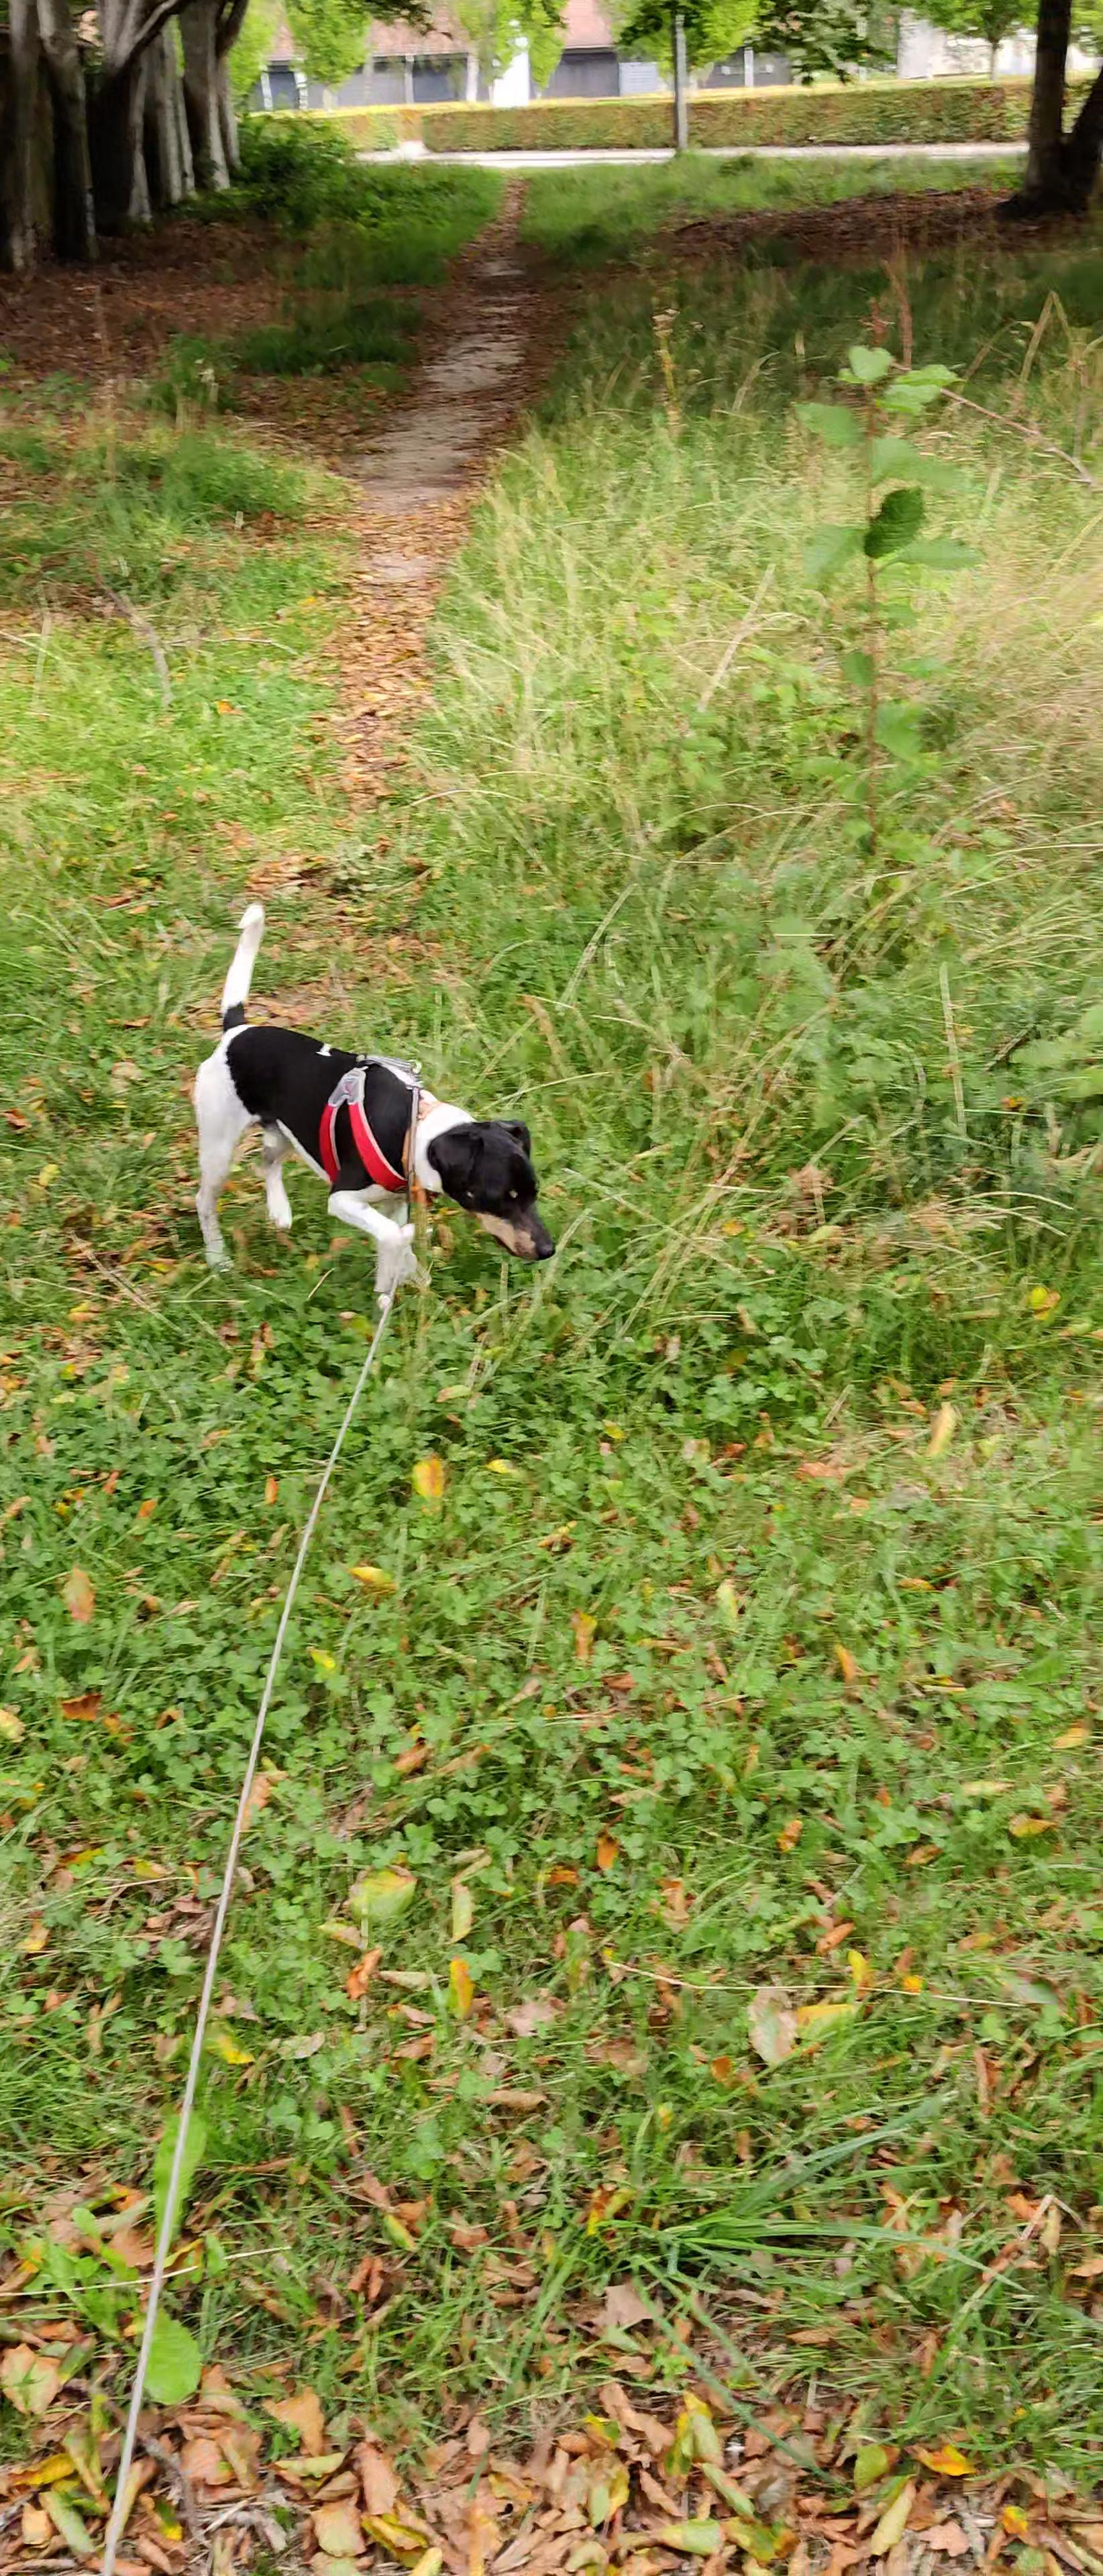Dog: (179, 894, 562, 1308)
